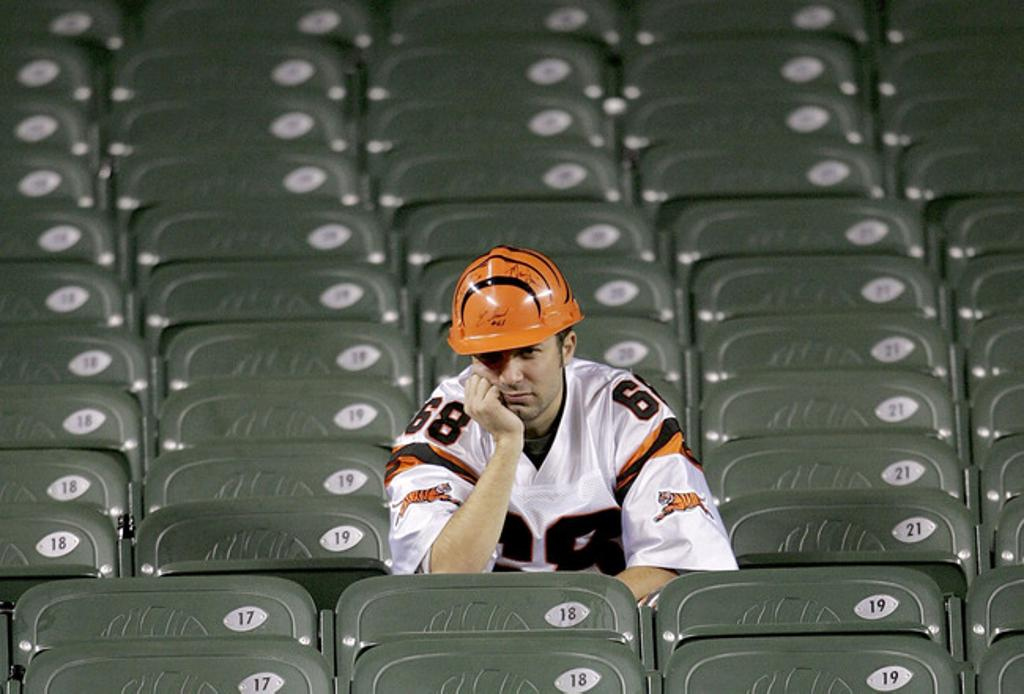face: (482, 326, 562, 420)
